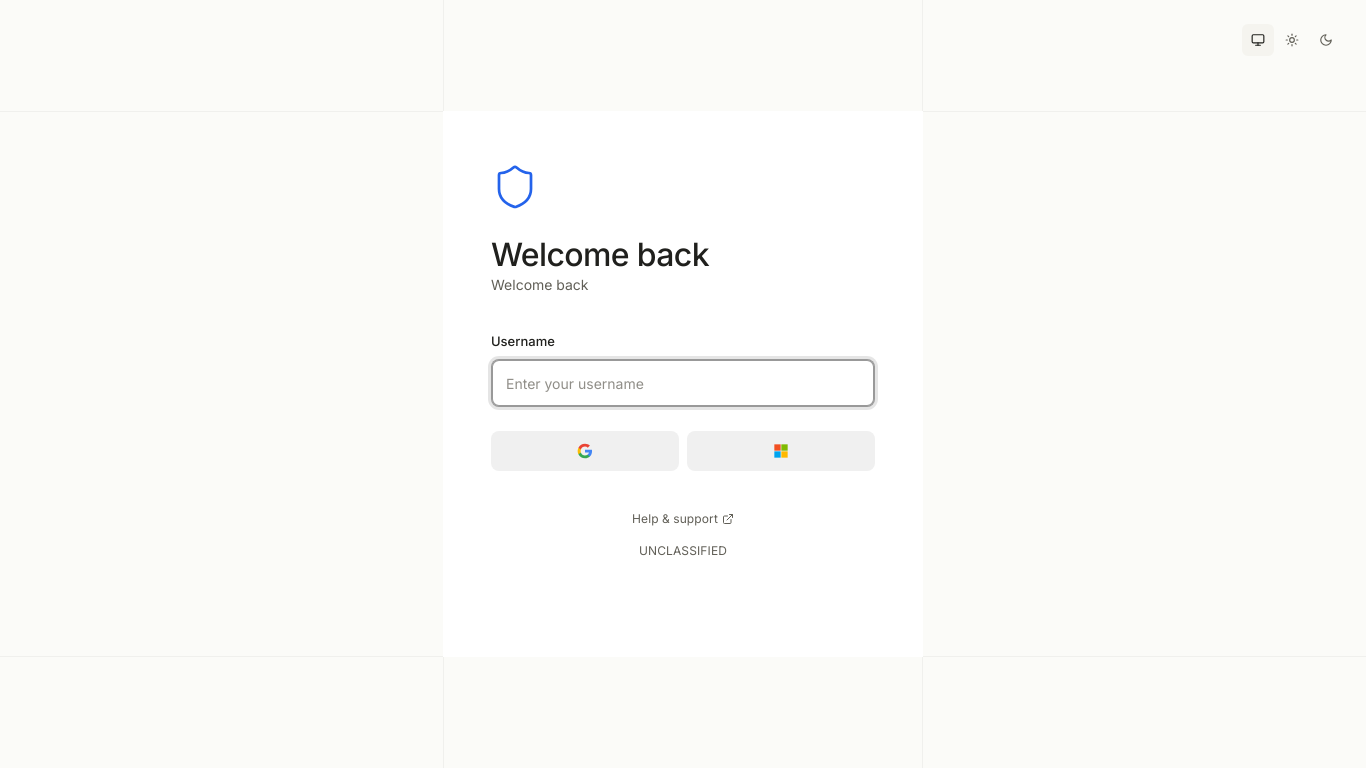
Scenario: Login — four-mode render › transitions to MFA mode and renders the segmented OTP input
Expected: the field labelled "Password" is not shown
Step 1. Type "alice" into the field labelled "Username" → (683, 383), box [491, 359, 875, 407]
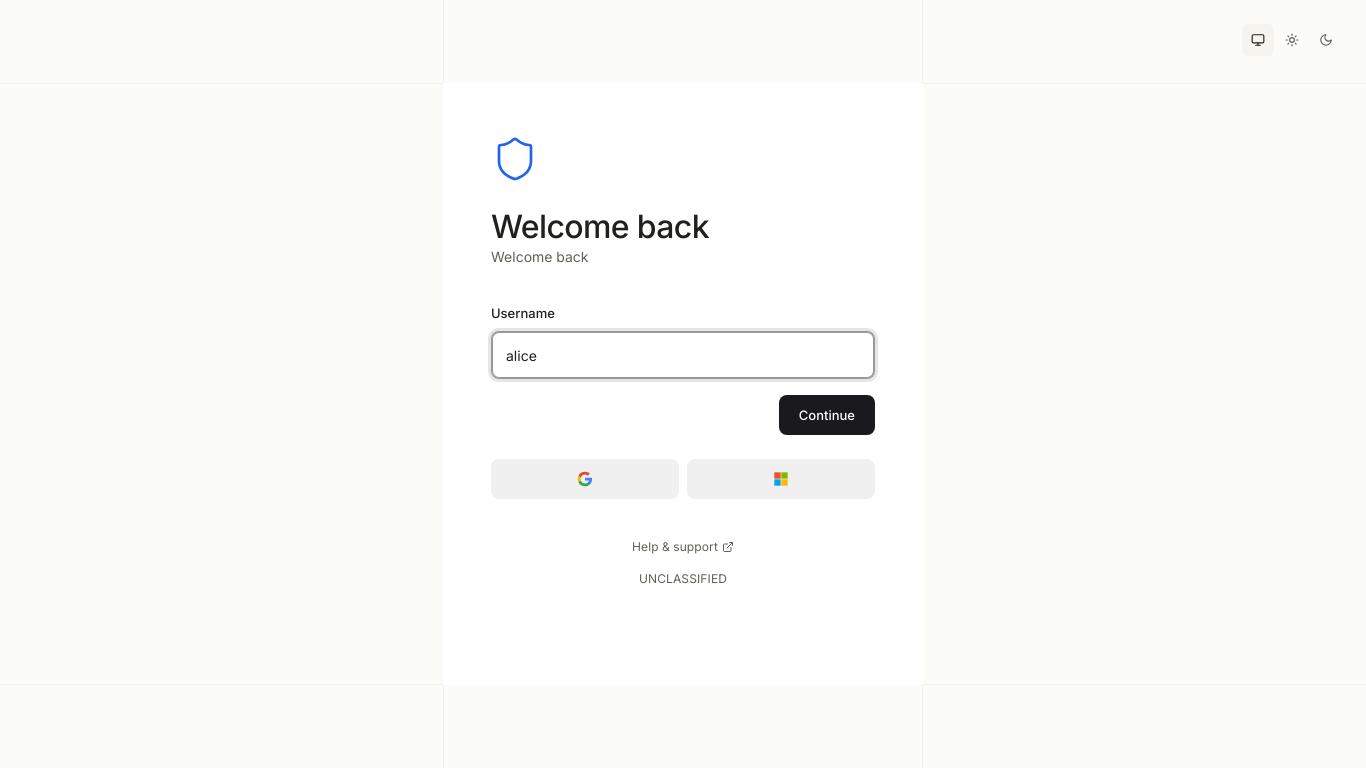
Expected: the button "Continue" is enabled
Step 2. Click the button "Continue" → (827, 415), box [779, 395, 875, 435]
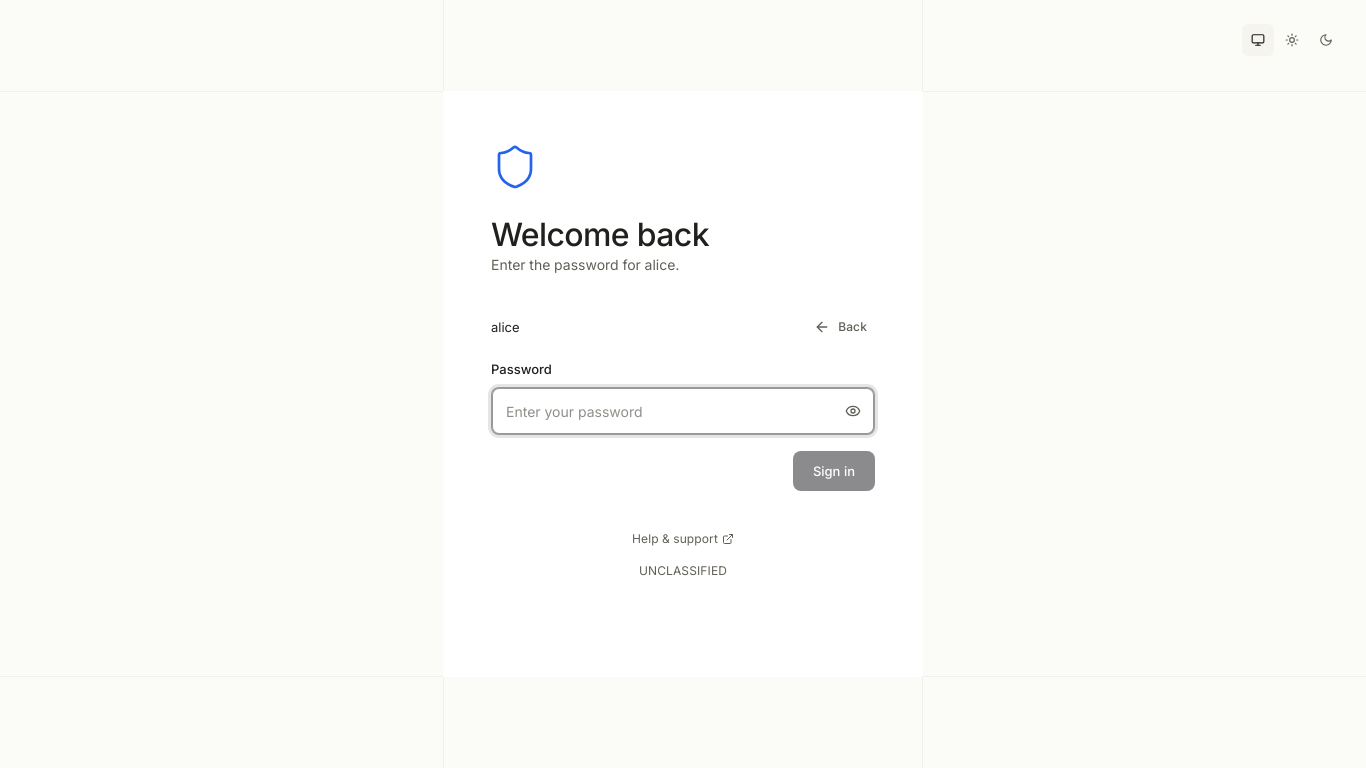
Expected: the button "Back" is shown, [806, 311, 875, 343]
Expected: the button "Sign in" is disabled, [793, 451, 875, 491]
Expected: the button "Continue" is gone
Step 3. Type "pw" into the password field labelled "Password" → (683, 411), box [491, 387, 875, 435]
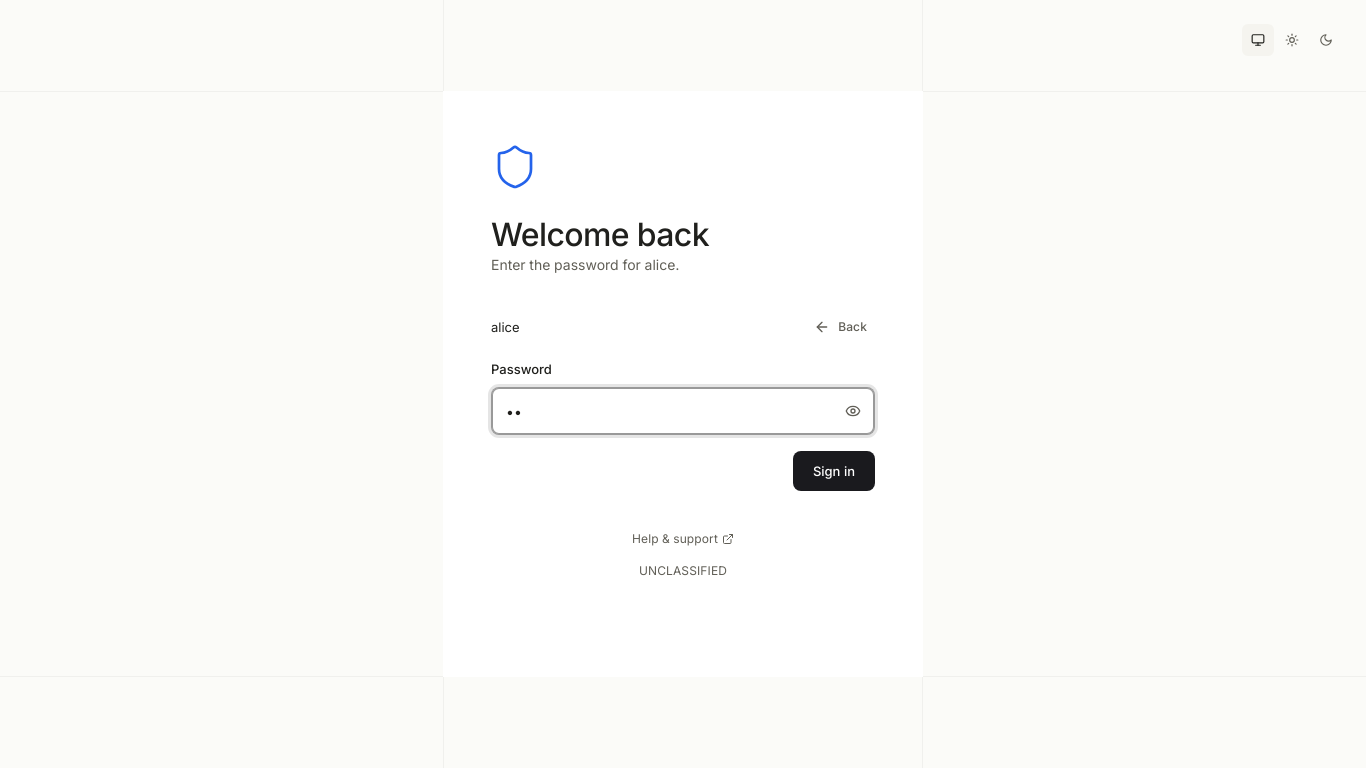
Step 4. Click the button "Sign in" → (834, 471), box [793, 451, 875, 491]
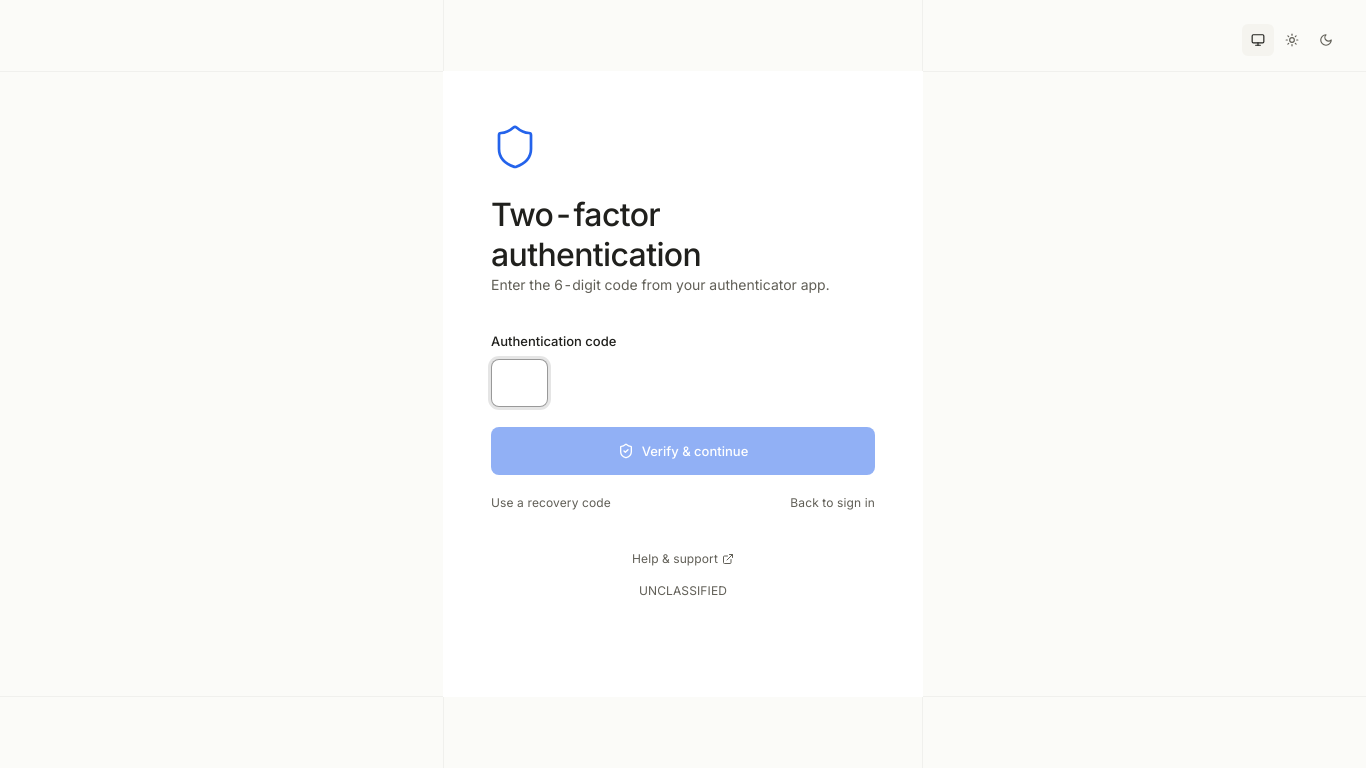
Expected: the heading "Two-factor authentication" is shown, [491, 195, 701, 274]
Expected: the element named "Authentication code" is shown, [491, 359, 875, 407]
